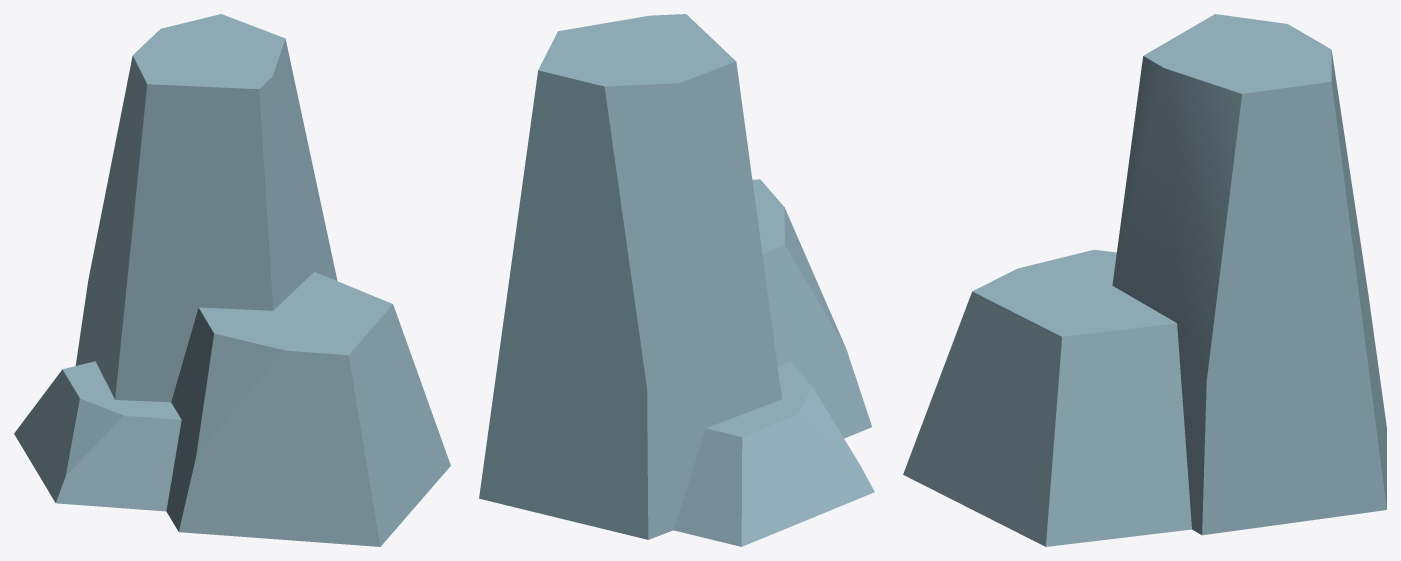
File: rockSmall.obj
The picture shows the model from 3 angles, left to right: view 1: azimuth 30°, elevation 25°; view 2: azimuth 150°, elevation 25°; view 3: azimuth 270°, elevation 25°; orthographic projection. The views are drawn at different scales.
Visible parts, largest first — view 1: rockSmall; view 2: rockSmall; view 3: rockSmall.
Part boxes in pixels (bbox=[...]): rockSmall: bbox=[14, 14, 450, 546]; rockSmall: bbox=[479, 14, 874, 546]; rockSmall: bbox=[903, 14, 1386, 546].
Size of the model in its own units: 0.9419 by 1.02 by 1.08.
